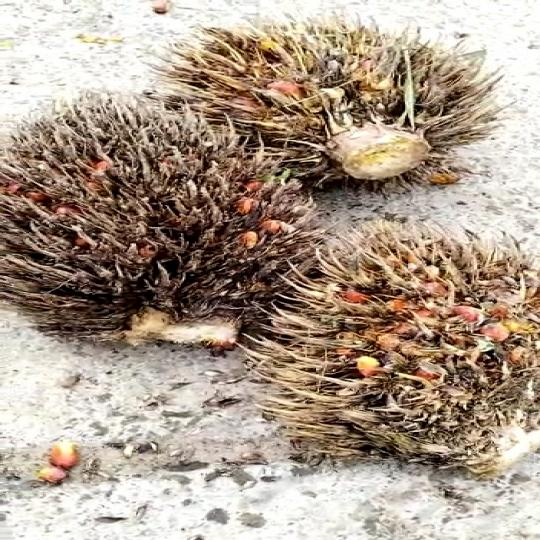terlalu masak: (0, 94, 324, 352), (261, 222, 540, 484), (148, 8, 510, 190)
